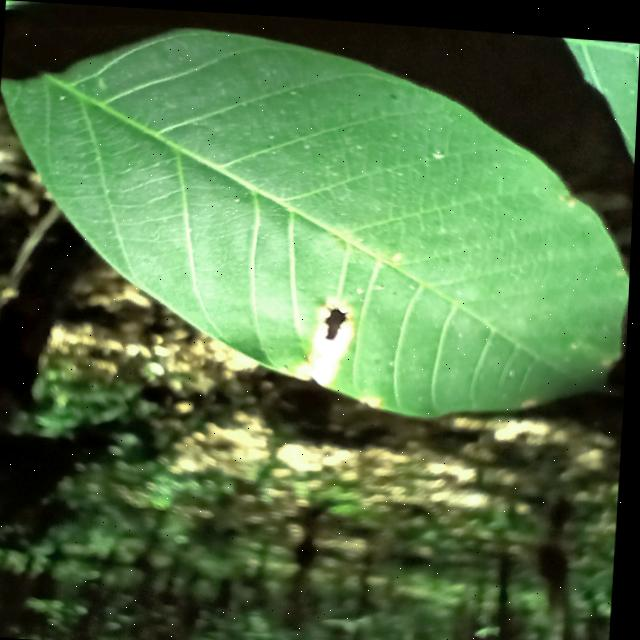Leaf-Blight: (294, 292, 359, 383)
